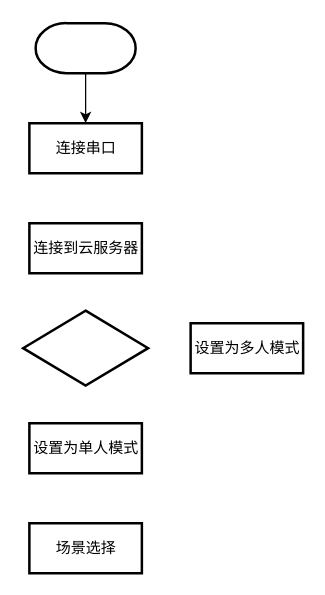
Some shapes in this 325 by 595 pixel diagram are drawn without their labels. The box of each missing label's shape, as (x1, y1, x2, y2) in pixels:
开始: (34, 21, 136, 74)
是否为单人模式: (21, 309, 149, 386)
